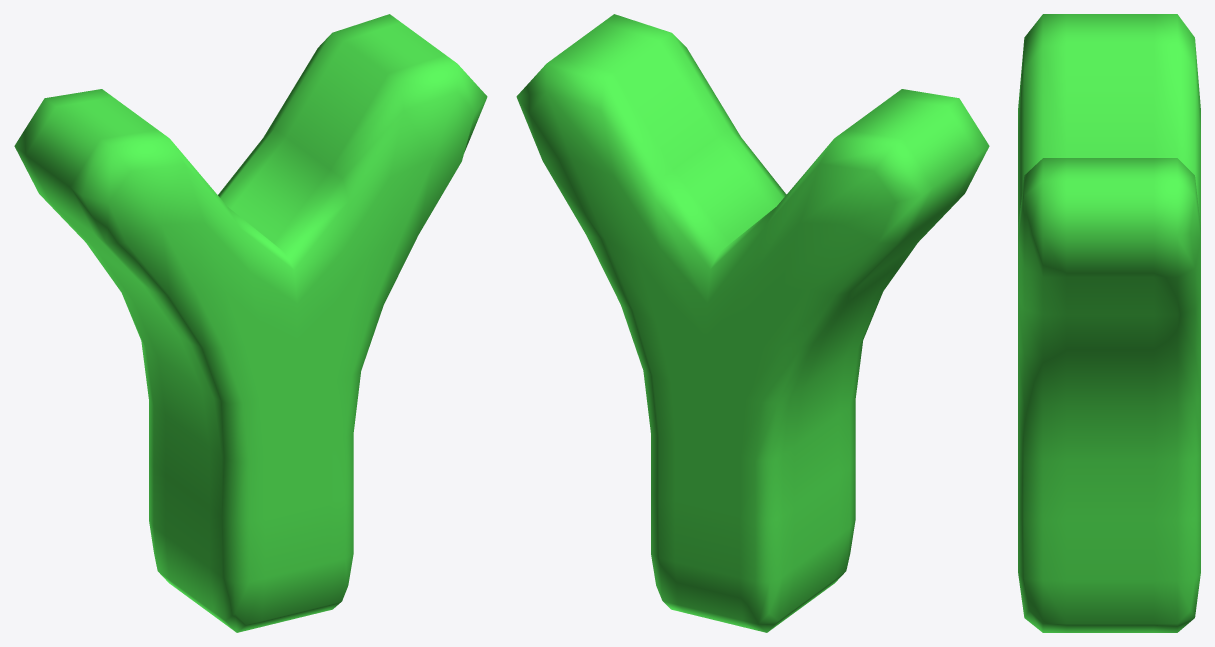
The model's file is Y_icon2.fbx.
The picture shows the model from 3 angles, left to right: view 1: azimuth 30°, elevation 25°; view 2: azimuth 150°, elevation 25°; view 3: azimuth 270°, elevation 25°; orthographic projection.
Visible parts, largest first — view 1: Box001; view 2: Box001; view 3: Box001.
Boxes of the visible parts, box(x1,y1,x2,y2) form: Box001: box(14, 14, 487, 632); Box001: box(516, 14, 989, 632); Box001: box(1018, 14, 1200, 632).
Size of the model in its own units: 69.37 by 27.26 by 84.29.
1 material, 1 textured.
